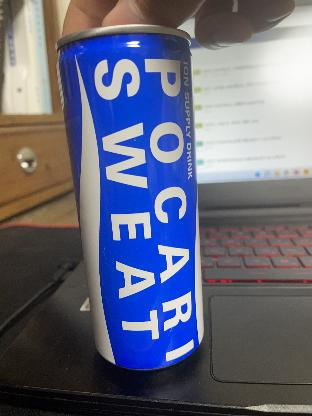Can: (57, 23, 204, 373)
